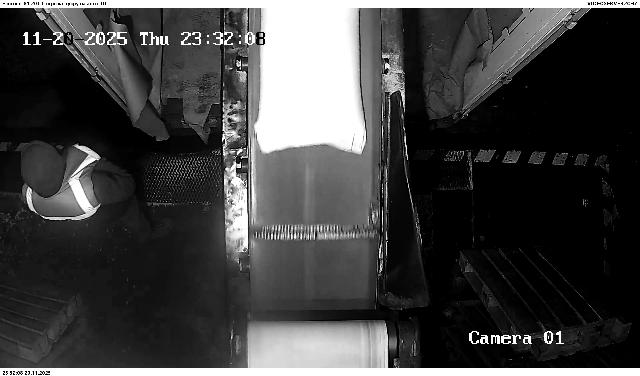bag: (255, 8, 366, 157)
